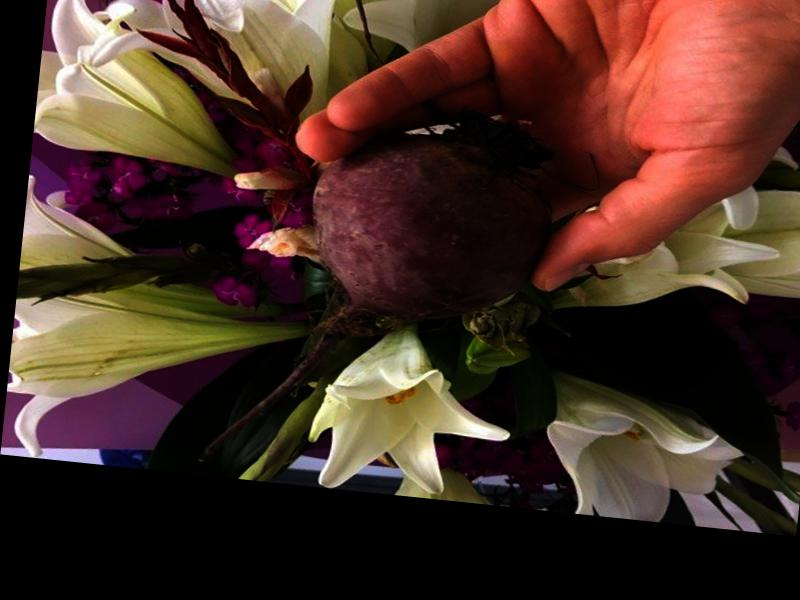Beet: (196, 88, 560, 492)
